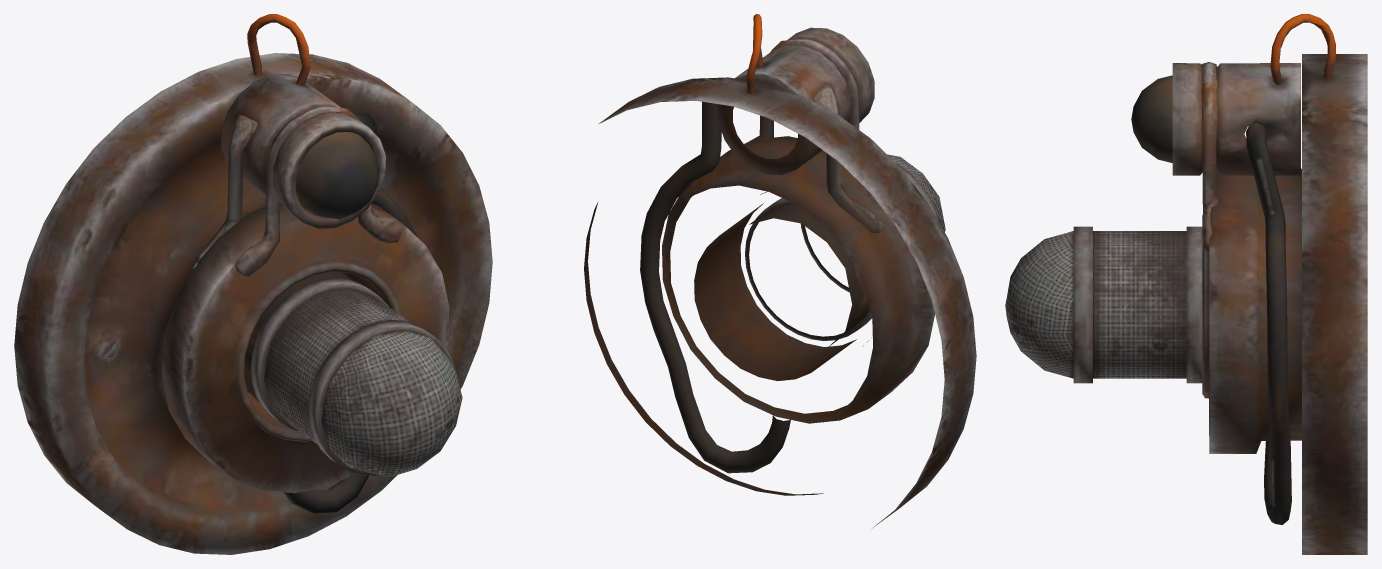
File: hbhfsensor.deployed.glb
3 renders of one model, left to right at view 1: azimuth 30°, elevation 25°; view 2: azimuth 150°, elevation 25°; view 3: azimuth 270°, elevation 25°, orthographic. The views are drawn at different scales.
Visible parts, largest first — view 1: MotionDetector; view 2: MotionDetector; view 3: MotionDetector.
Boxes of the visible parts, x1,y1,x2,y2 form: MotionDetector: [14, 14, 492, 554]; MotionDetector: [584, 14, 976, 528]; MotionDetector: [1005, 14, 1367, 554].
Bounding box in the file's own units: 0.3978 × 0.4551 × 0.2867.
Materials: 1 (1 with a texture image).
